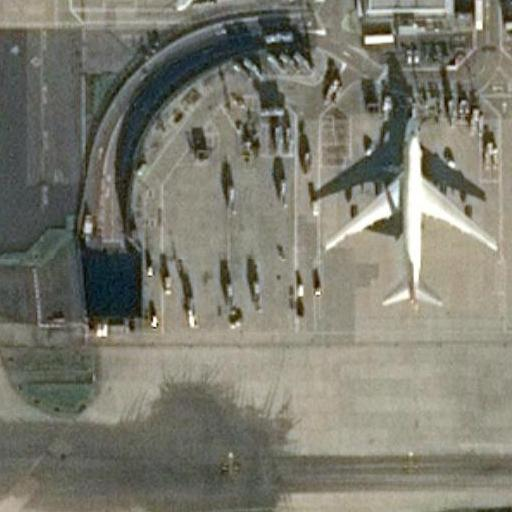Aircraft: (319, 121, 498, 309), (324, 125, 500, 305), (107, 0, 311, 9), (110, 0, 314, 8)
